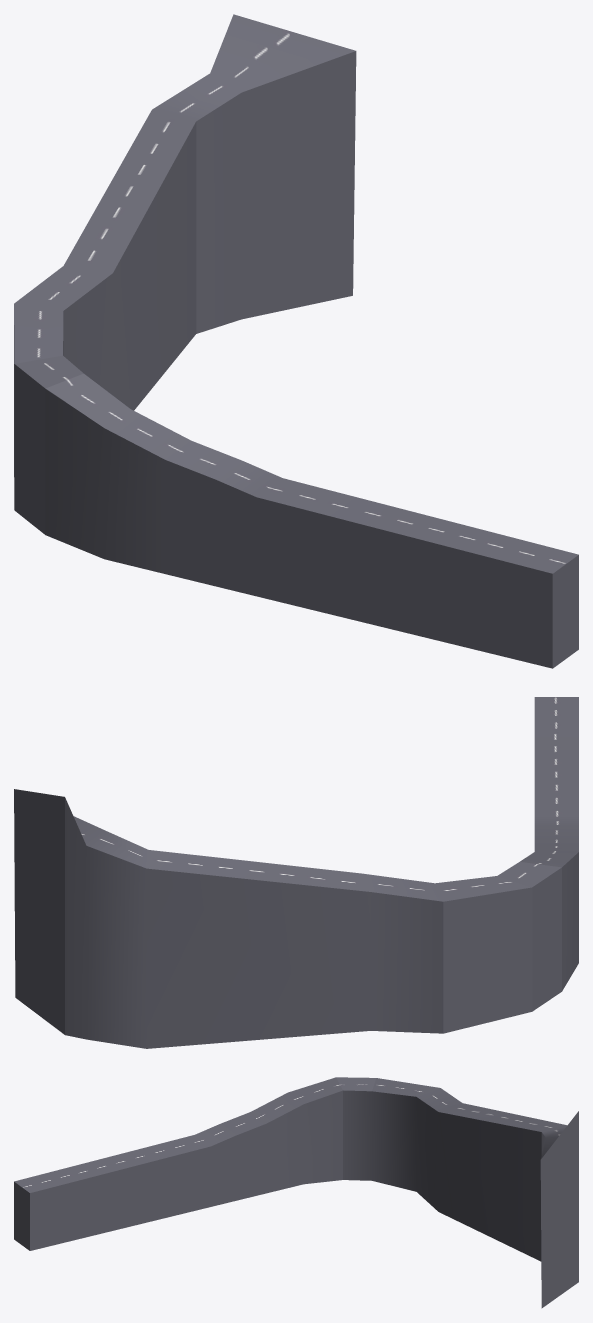
File: road_7.gltf
3 views of the same model, one above another, from view 1: azimuth 30°, elevation 25°; view 2: azimuth 150°, elevation 25°; view 3: azimuth 270°, elevation 25° (orthographic). The views are drawn at different scales.
Visible parts, largest first — view 1: road; view 2: road; view 3: road.
Boxes of the visible parts, bbox=[...] form: road: bbox=[14, 14, 578, 668]; road: bbox=[14, 697, 578, 1048]; road: bbox=[14, 1077, 578, 1308].
Size of the model in its own units: 12.87 by 7.22 by 21.54.
1 material, 1 textured.
